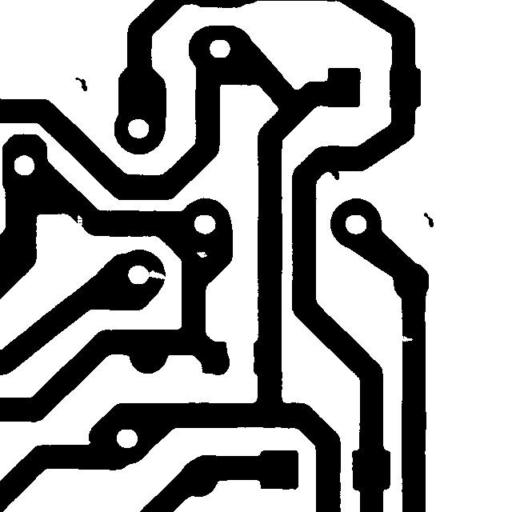copper: (416, 205, 441, 234)
mousebite: (390, 327, 420, 349), (70, 207, 91, 237)
open: (138, 262, 174, 286)
pin-hole: (189, 244, 214, 265)
short: (67, 70, 94, 98)
spur: (321, 158, 346, 187)
